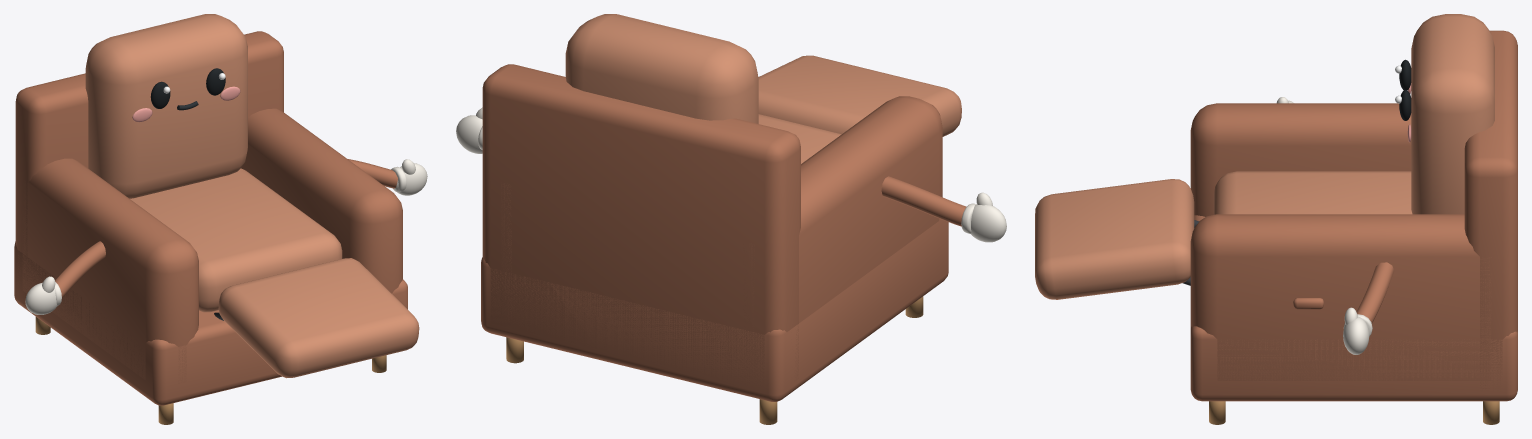
File: armchair-recliner.glb
3 views of the same model, side by side, from view 1: azimuth 30°, elevation 25°; view 2: azimuth 150°, elevation 25°; view 3: azimuth 270°, elevation 25° (orthographic). The views are drawn at different scales.
Visible parts, largest first — view 1: Upholstery.004, Arm_L.004, Arm_R.004, Legs.004, Face_EyeL.004, Face_EyeR.004; view 2: Upholstery.004, Arm_L.004, Legs.004, Arm_R.004; view 3: Upholstery.004, Arm_R.004, Legs.004.
Part boxes in pixels (x1,y1,x2,y2): Upholstery.004: [14, 14, 419, 405]; Arm_L.004: [25, 241, 105, 314]; Arm_R.004: [348, 159, 427, 195]; Legs.004: [35, 312, 386, 424]; Face_EyeL.004: [150, 81, 170, 108]; Face_EyeR.004: [206, 68, 225, 95]; Upholstery.004: [481, 14, 961, 401]; Arm_L.004: [881, 176, 1006, 242]; Legs.004: [506, 296, 923, 424]; Arm_R.004: [456, 107, 482, 153]; Upholstery.004: [1035, 14, 1517, 401]; Arm_R.004: [1343, 262, 1393, 354]; Legs.004: [1182, 220, 1499, 424].
Size of the model in its own units: 1.46 by 0.93 by 1.27.
